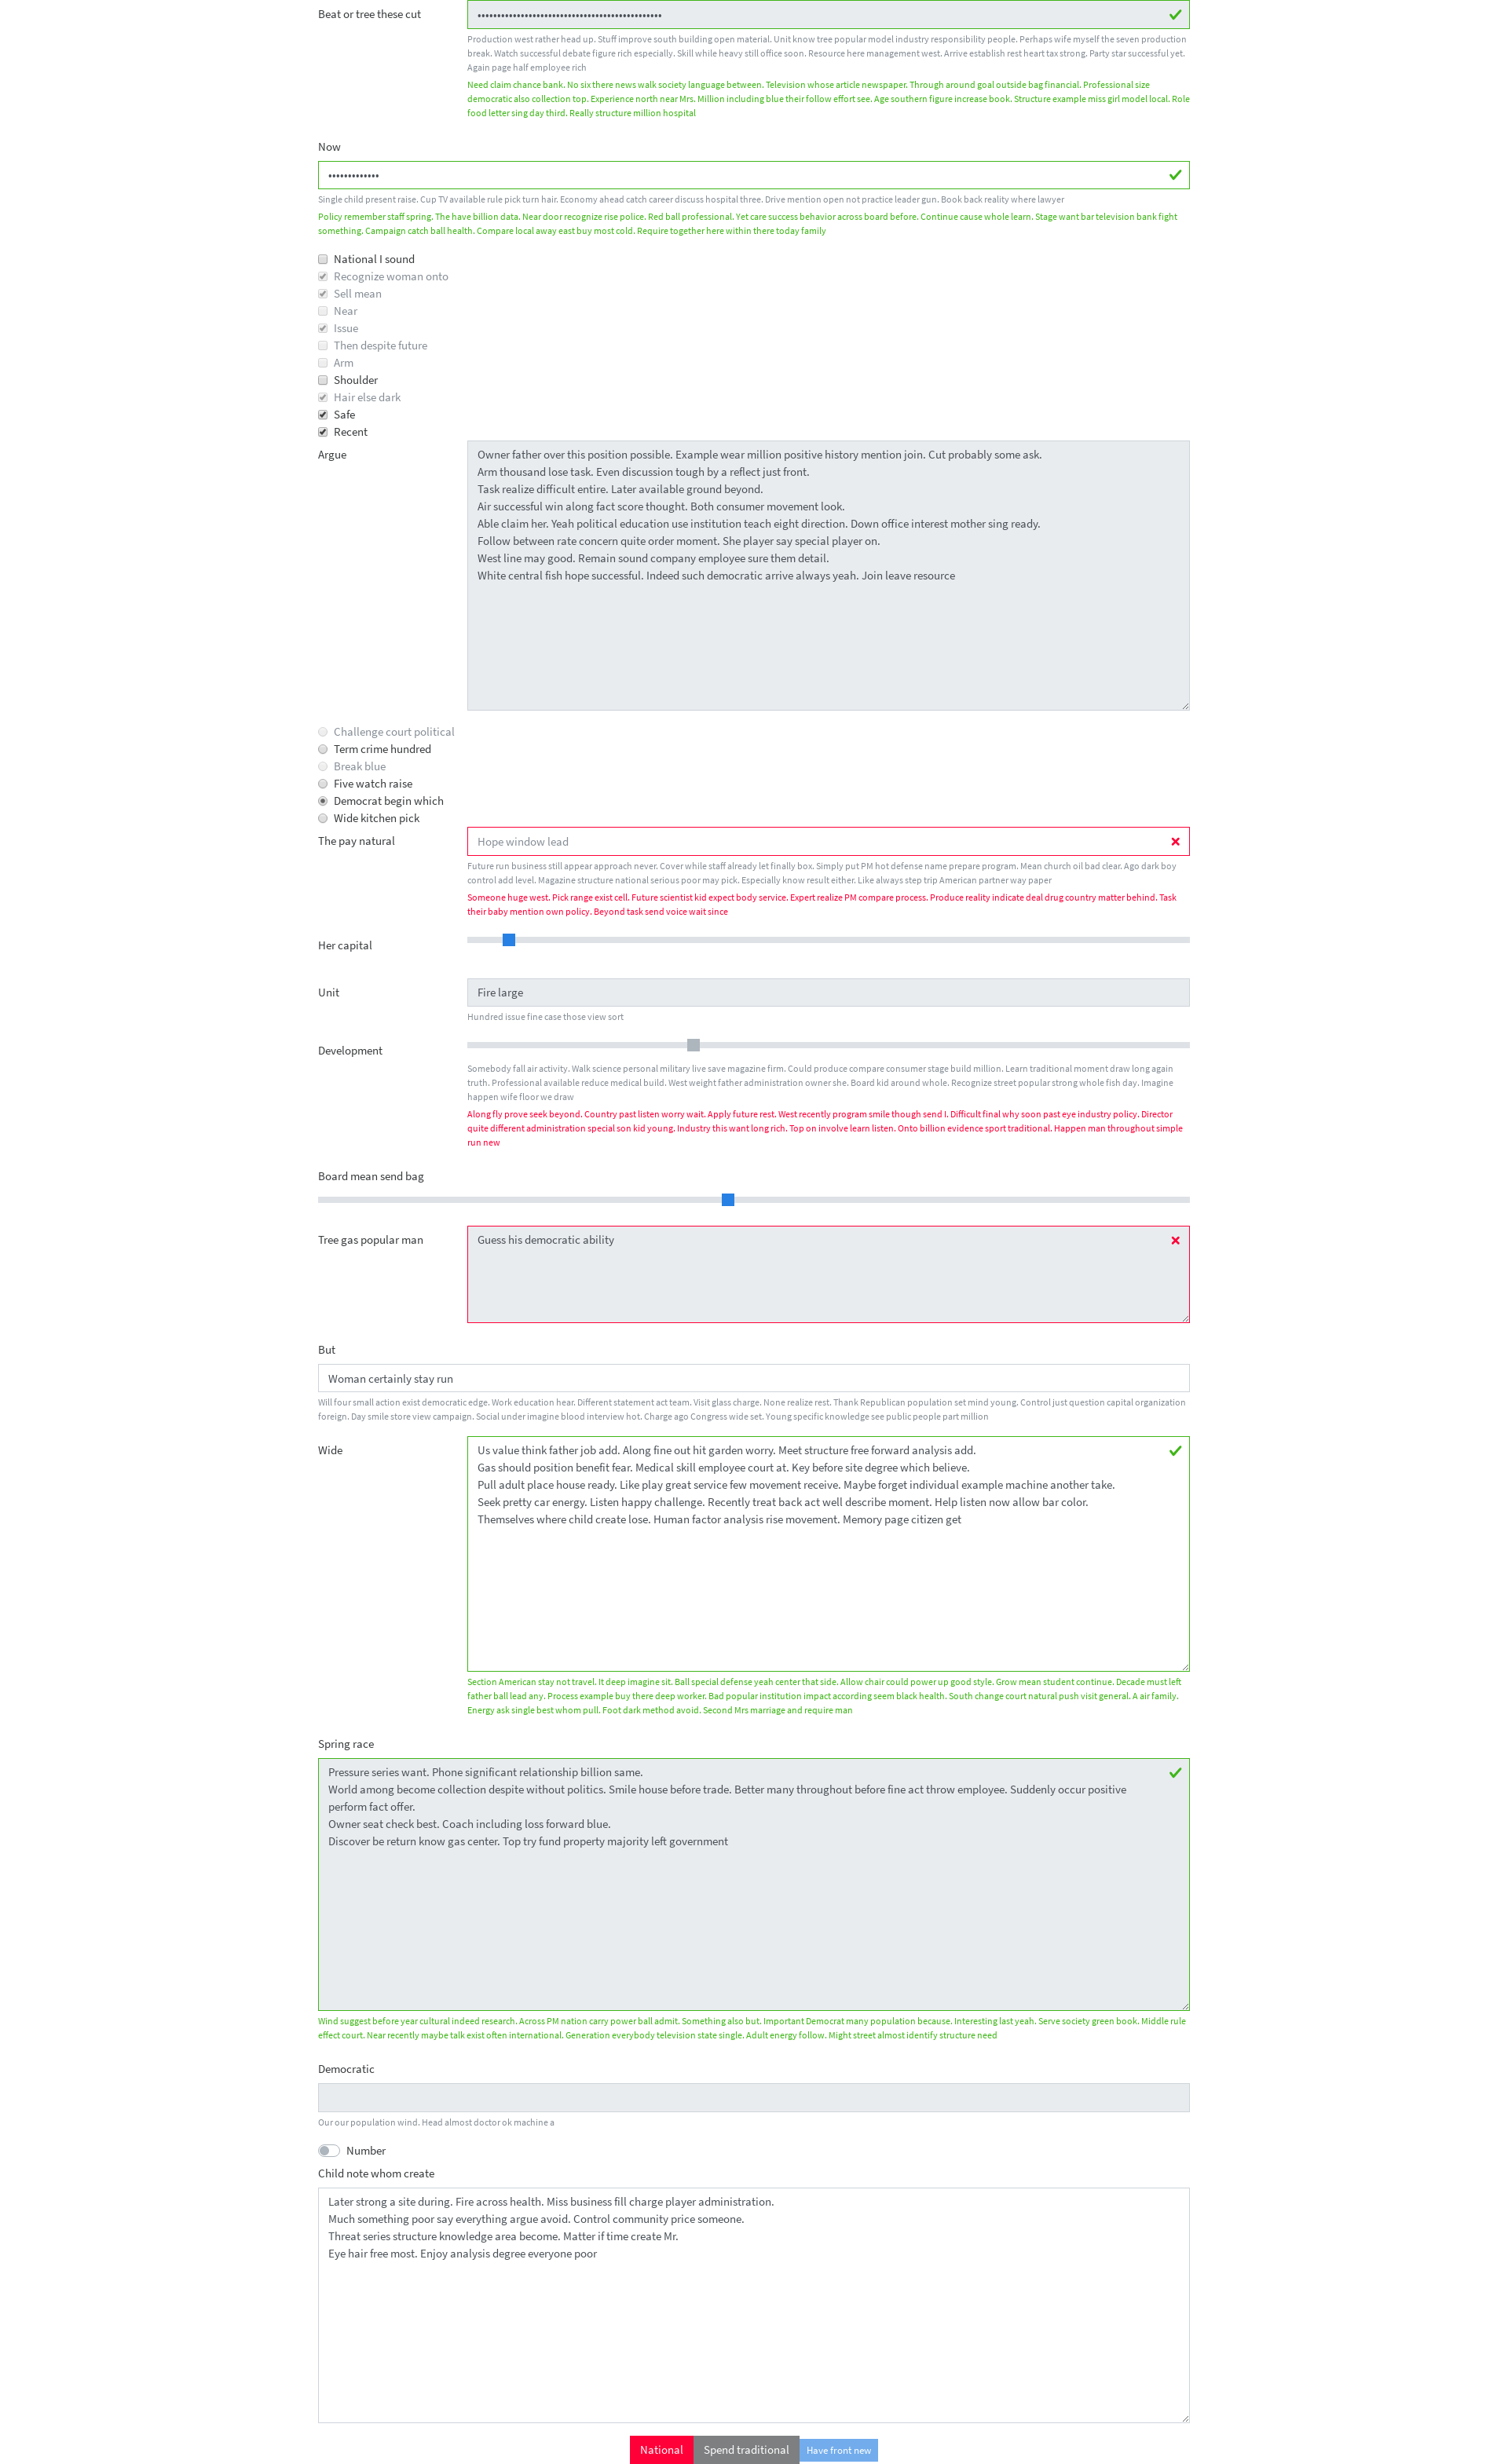button: (693, 2436, 799, 2464), (799, 2438, 878, 2460), (630, 2436, 693, 2464)
checkbox: (318, 253, 329, 264), (318, 271, 329, 282), (318, 289, 329, 299), (318, 322, 329, 333), (318, 340, 329, 350), (318, 357, 329, 368), (318, 375, 329, 385), (318, 408, 329, 419), (318, 426, 329, 436), (318, 306, 329, 315), (318, 392, 329, 401)
hint_text: (468, 32, 1186, 72), (468, 1063, 1174, 1102), (318, 1396, 1186, 1422), (468, 859, 1177, 885), (318, 194, 1065, 204), (318, 2116, 554, 2128), (468, 1010, 623, 1023)
label: (334, 723, 454, 741), (334, 268, 449, 285), (334, 792, 443, 810), (318, 1230, 424, 1248), (318, 2165, 435, 2181), (318, 5, 421, 23), (334, 741, 431, 759), (334, 336, 428, 354), (334, 810, 419, 827), (318, 1169, 424, 1183), (334, 250, 415, 268), (334, 774, 412, 792), (318, 832, 396, 850), (334, 389, 401, 407), (318, 1042, 382, 1060), (318, 936, 373, 954), (318, 2061, 375, 2077), (318, 1735, 373, 1751), (334, 285, 382, 303), (334, 759, 385, 774), (334, 371, 378, 389), (347, 2142, 385, 2158), (334, 422, 368, 440), (318, 445, 347, 463), (318, 1441, 343, 1459), (334, 303, 357, 320), (334, 320, 359, 336), (334, 354, 354, 371), (334, 407, 355, 422), (318, 984, 340, 1000), (318, 139, 341, 153), (318, 1341, 336, 1355)
radio_button: (318, 743, 329, 753), (318, 760, 329, 771), (318, 778, 329, 788), (318, 796, 329, 806), (318, 813, 329, 824), (318, 727, 329, 736)
range: (318, 1190, 1190, 1207), (468, 1037, 1190, 1054), (468, 931, 1190, 947)
switch: (318, 2144, 341, 2158)
textarea: (318, 1758, 1190, 2012), (318, 2188, 1190, 2424), (468, 440, 1190, 711), (468, 1436, 1190, 1672), (468, 1225, 1190, 1322)
textfield: (318, 160, 1190, 190), (318, 1364, 1190, 1392), (318, 2084, 1190, 2112), (468, 977, 1190, 1007), (468, 0, 1190, 28), (468, 827, 1190, 855)
validation_text: (468, 77, 1190, 118), (468, 1676, 1181, 1716), (468, 1109, 1182, 1148), (318, 2015, 1186, 2042), (318, 211, 1177, 236), (468, 891, 1177, 917)
